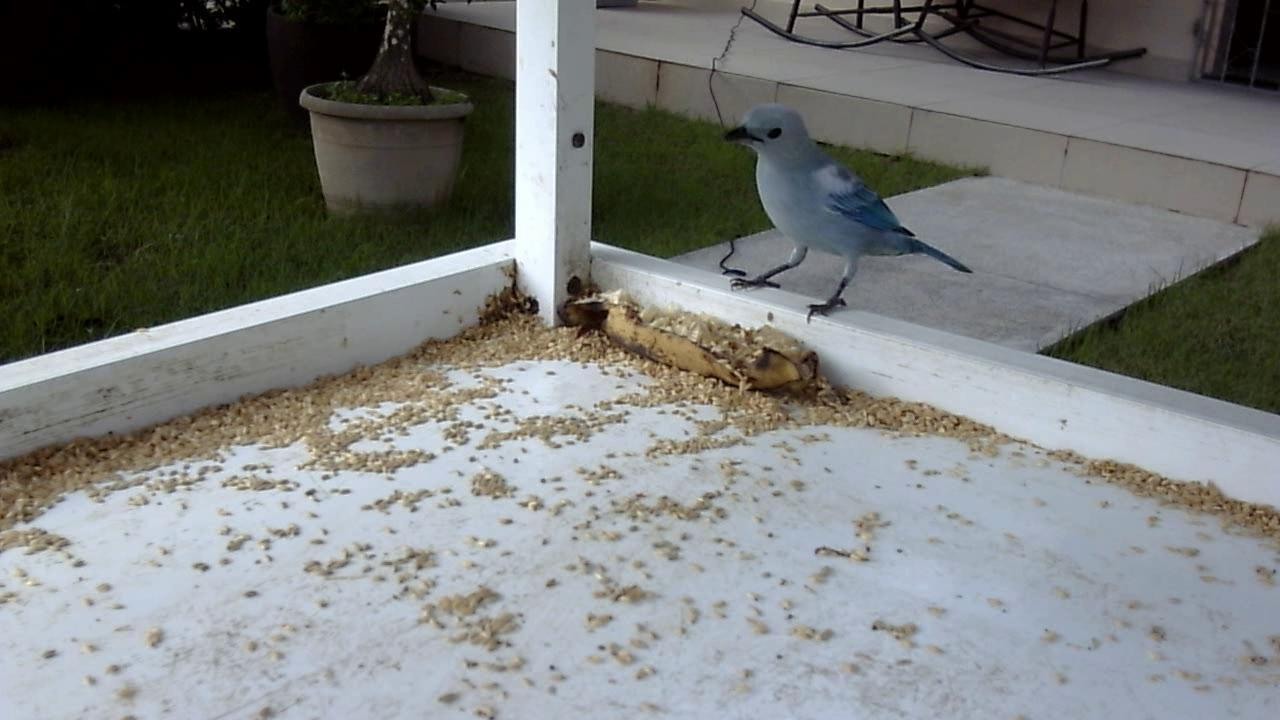sanhaco_da_amazonia: (710, 100, 977, 330)
